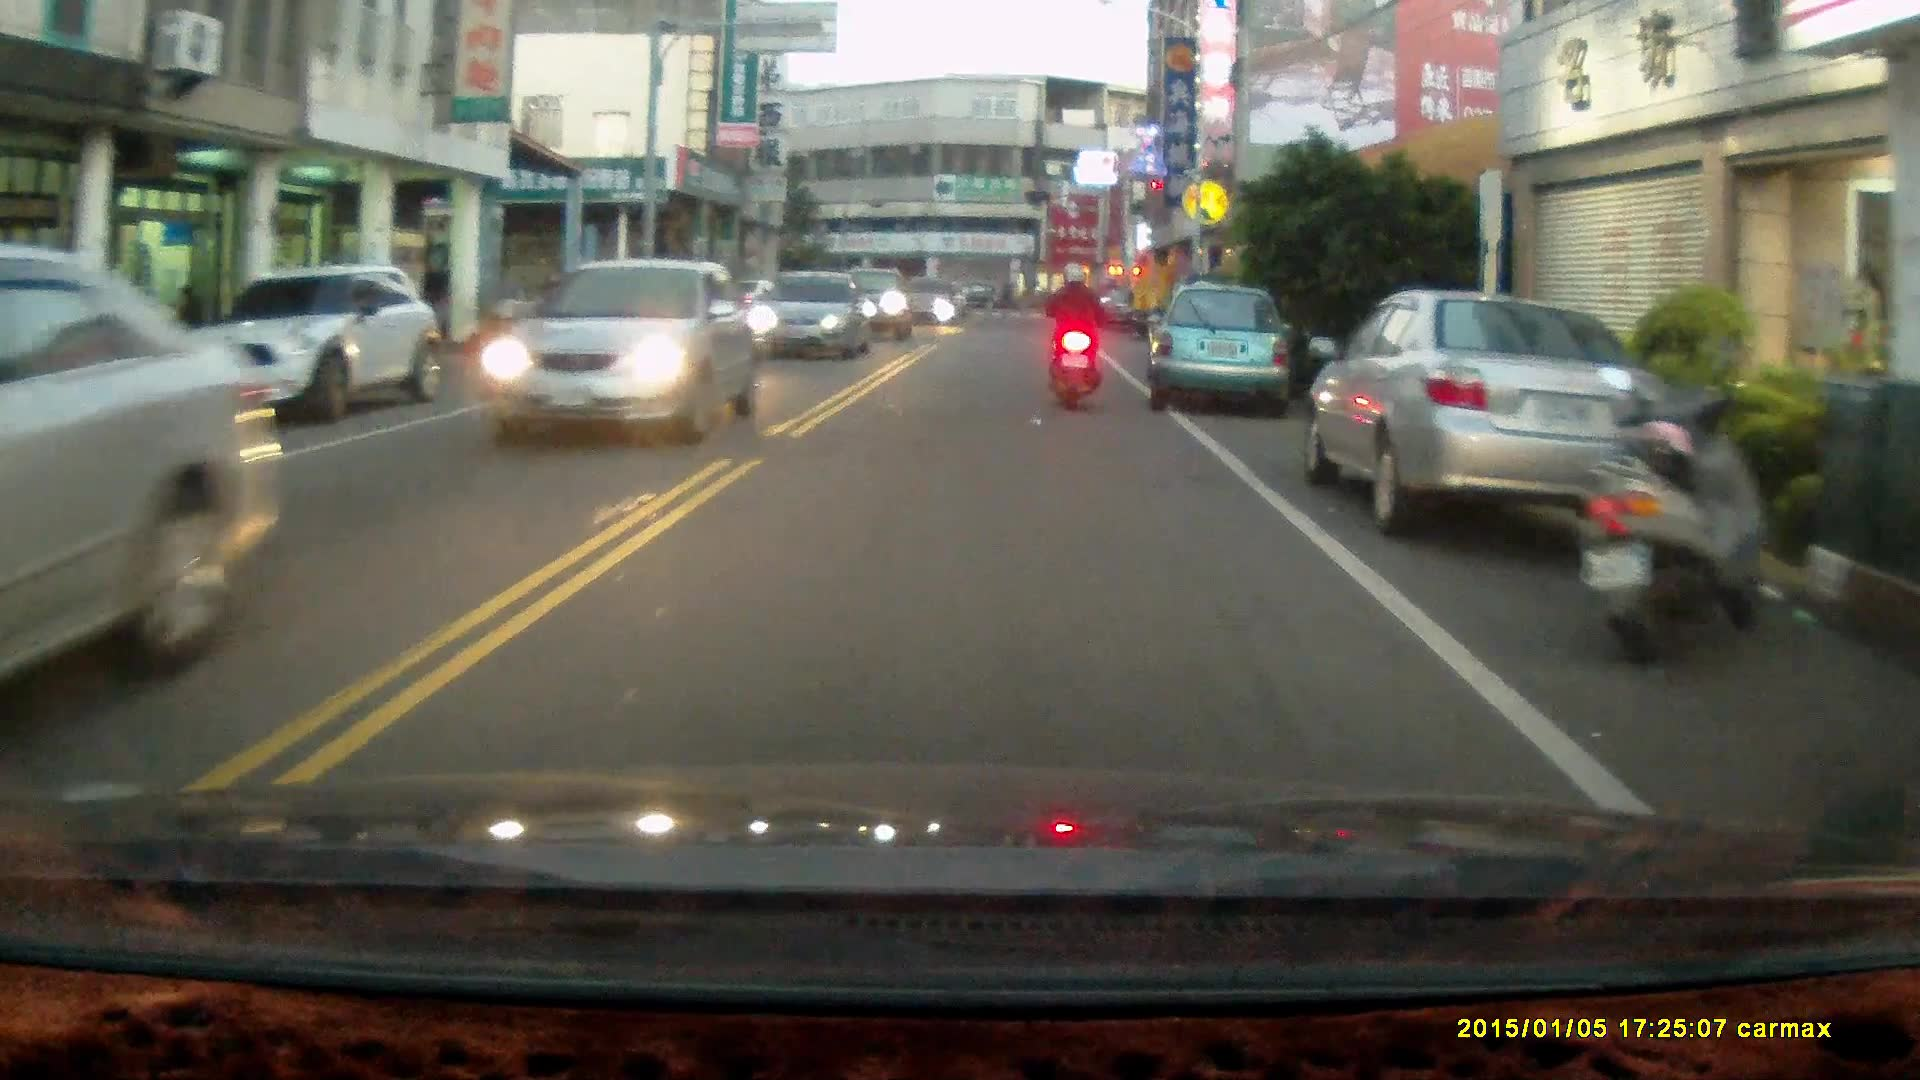pedestrian: (172, 281, 209, 353)
rider: (1040, 259, 1109, 412)
vehicle: (2, 245, 283, 720), (1299, 293, 1705, 539), (478, 259, 769, 444), (195, 266, 461, 420), (1148, 280, 1298, 422), (744, 270, 871, 366)
